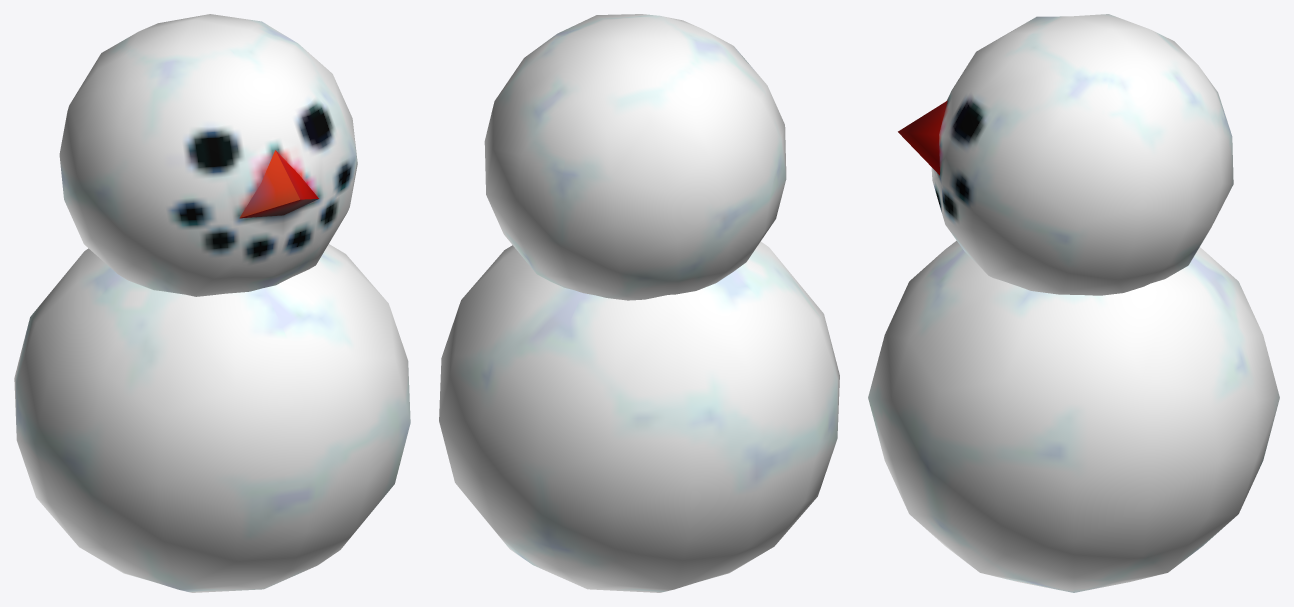
File: int_oth_snowdharma.dae
The picture shows the model from 3 angles, left to right: view 1: azimuth 30°, elevation 25°; view 2: azimuth 150°, elevation 25°; view 3: azimuth 270°, elevation 25°; orthographic projection.
Visible parts, largest first — view 1: int_oth_snowdharma; view 2: int_oth_snowdharma; view 3: int_oth_snowdharma.
Boxes of the visible parts, bbox=[...] form: int_oth_snowdharma: bbox=[14, 14, 410, 592]; int_oth_snowdharma: bbox=[439, 14, 839, 592]; int_oth_snowdharma: bbox=[868, 14, 1279, 592].
Bounding box in the file's own units: 32 × 46.5 × 32.
1 material, 1 textured.
